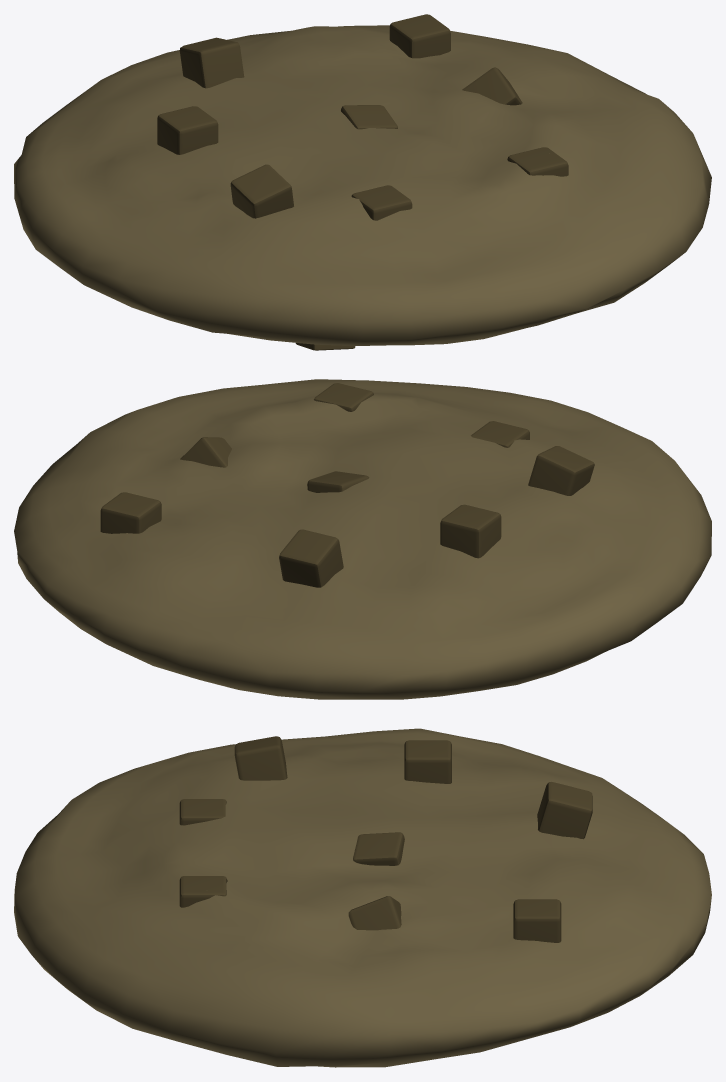
Rendered from Cookie0.fbx.
3 renders of one model, top to bottom at view 1: azimuth 30°, elevation 25°; view 2: azimuth 150°, elevation 25°; view 3: azimuth 270°, elevation 25°, orthographic.
Parts seen in each view (by area): view 1: cookie, choocolate_chip; view 2: cookie, choocolate_chip; view 3: cookie, choocolate_chip.
Part boxes in pixels (box(x1,y1,x2,y2)): cookie: box(14, 25, 711, 345); choocolate_chip: box(157, 14, 568, 350); cookie: box(14, 379, 711, 699); choocolate_chip: box(100, 383, 594, 587); cookie: box(14, 728, 711, 1067); choocolate_chip: box(179, 736, 592, 942).
Size of the model in its own units: 294 by 71.9 by 291.
